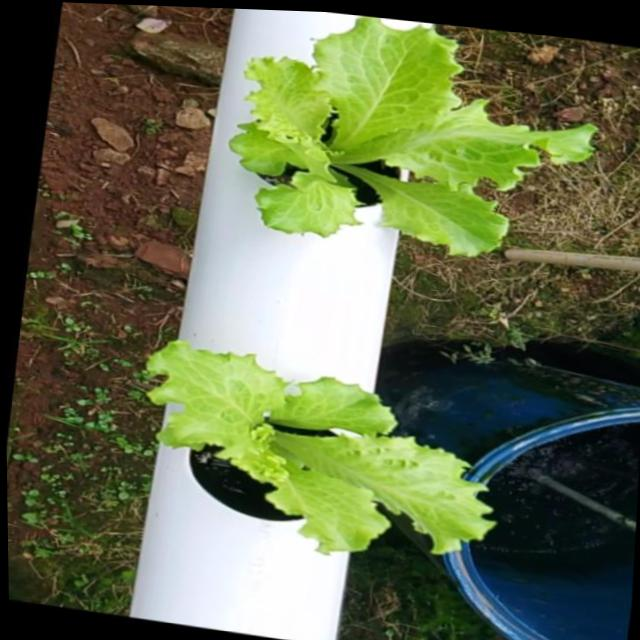Baby: (231, 19, 598, 263), (147, 351, 499, 567)
